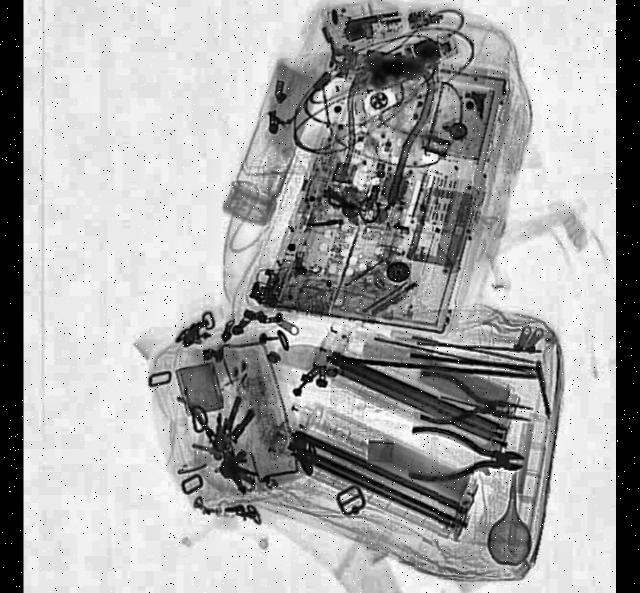Pliers: (414, 372, 536, 441), (406, 426, 523, 491)
